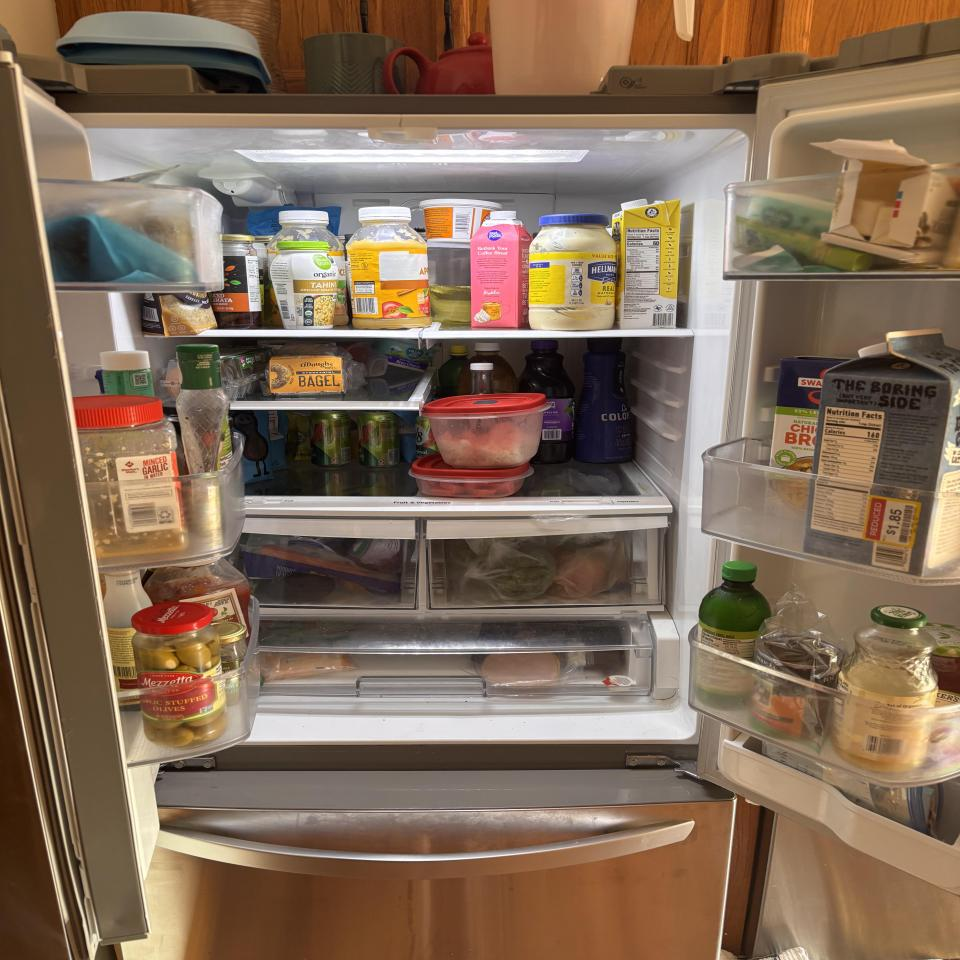ketchup: (144, 556, 252, 646)
mayonnaise: (528, 214, 616, 331)
